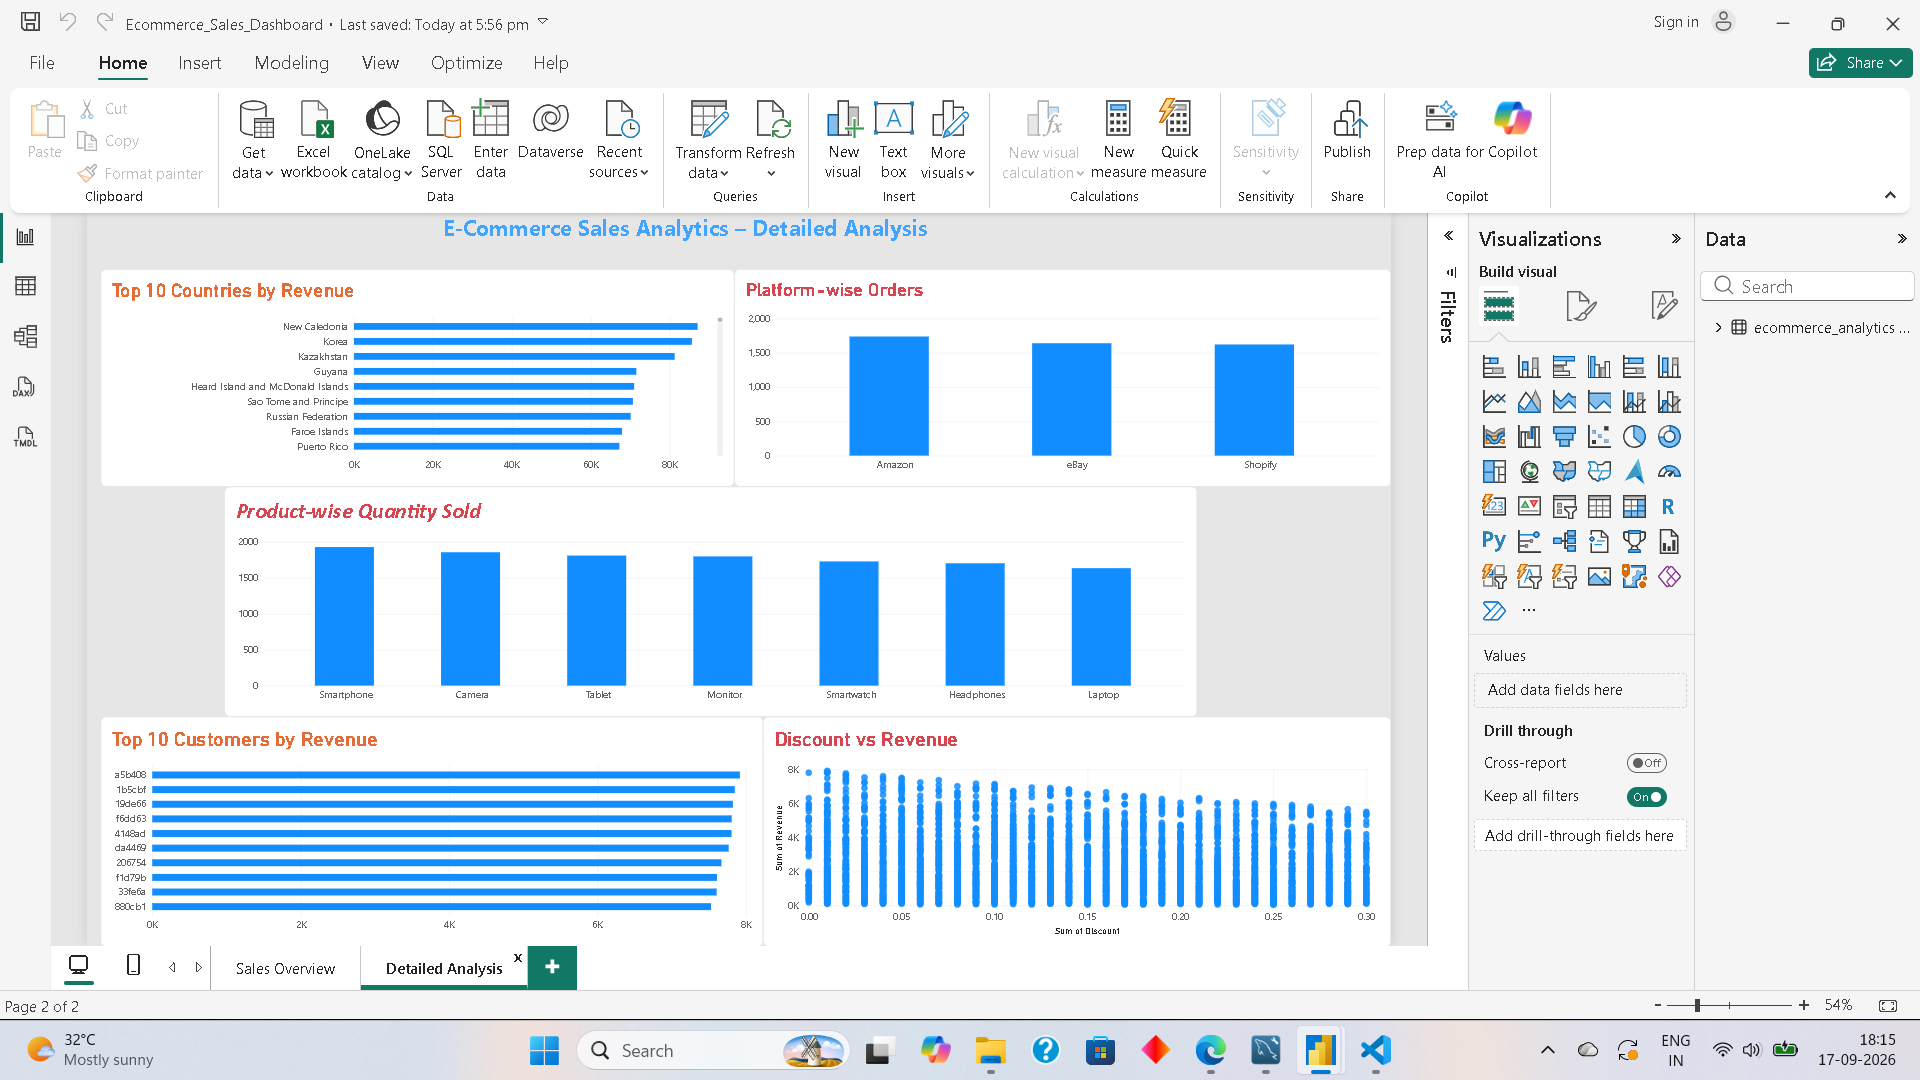

The page's visual inventory and layout, read from the dashboard file:
{"tool":"powerbi","page":{"name":"Detailed Analysis","canvas":[1920,1080],"ordinal":1},"visuals":[{"type":"clusteredColumnChart","title":"Product-wise Quantity Sold","fields":{"Category":["ecommerce_analytics ecommerce_sales.Product"],"Y":["Sum(ecommerce_analytics ecommerce_sales.Quantity)"]},"box":[202.5,403.1,1431.9,338.7],"z":0},{"type":"clusteredBarChart","title":"Top 10 Countries by Revenue","fields":{"Category":["ecommerce_analytics ecommerce_sales.Country"],"Y":["Sum(ecommerce_analytics ecommerce_sales.Revenue)"]},"box":[20.2,82.8,933.1,320.2],"z":1},{"type":"clusteredColumnChart","title":"Platform-wise Orders","fields":{"Category":["ecommerce_analytics ecommerce_sales.Platform"],"Y":["CountNonNull(ecommerce_analytics ecommerce_sales.Order_ID)"]},"box":[953.4,82.8,966.3,320.2],"z":2},{"type":"clusteredBarChart","title":"Top 10 Customers by Revenue","fields":{"Category":["ecommerce_analytics ecommerce_sales.Customer_ID"],"Y":["Sum(ecommerce_analytics ecommerce_sales.Revenue)"]},"box":[20.2,741.7,975.5,338.7],"z":3},{"type":"scatterChart","title":"Discount vs Revenue","fields":{"Category":["ecommerce_analytics ecommerce_sales.Order_ID"],"X":["Sum(ecommerce_analytics ecommerce_sales.Discount)"],"Y":["Sum(ecommerce_analytics ecommerce_sales.Revenue)"]},"box":[995.7,741.7,923.9,338.7],"z":4},{"type":"textbox","box":[450.9,0,859.5,82.8],"z":5}]}

Visuals, with their boxes on the page's 1920x1080 design canvas (x1, y1, x2, y2). These are canvas units, not pixel positions in the 1920x1080 screenshot, which may show the page scaled, cropped or inside an application window:
"Product-wise Quantity Sold" clusteredColumnChart: 202, 403, 1634, 742
"Top 10 Countries by Revenue" clusteredBarChart: 20, 83, 953, 403
"Platform-wise Orders" clusteredColumnChart: 953, 83, 1920, 403
"Top 10 Customers by Revenue" clusteredBarChart: 20, 742, 996, 1080
"Discount vs Revenue" scatterChart: 996, 742, 1920, 1080
textbox: 451, 0, 1310, 83
